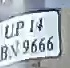1: (27, 18, 34, 35)
4: (35, 17, 44, 34)
6: (46, 34, 55, 57), (30, 38, 38, 55), (39, 35, 46, 53)
9: (22, 38, 30, 55)
B: (1, 44, 9, 62)
P: (14, 18, 25, 38)
U: (3, 21, 14, 41)
V: (11, 42, 20, 58)
